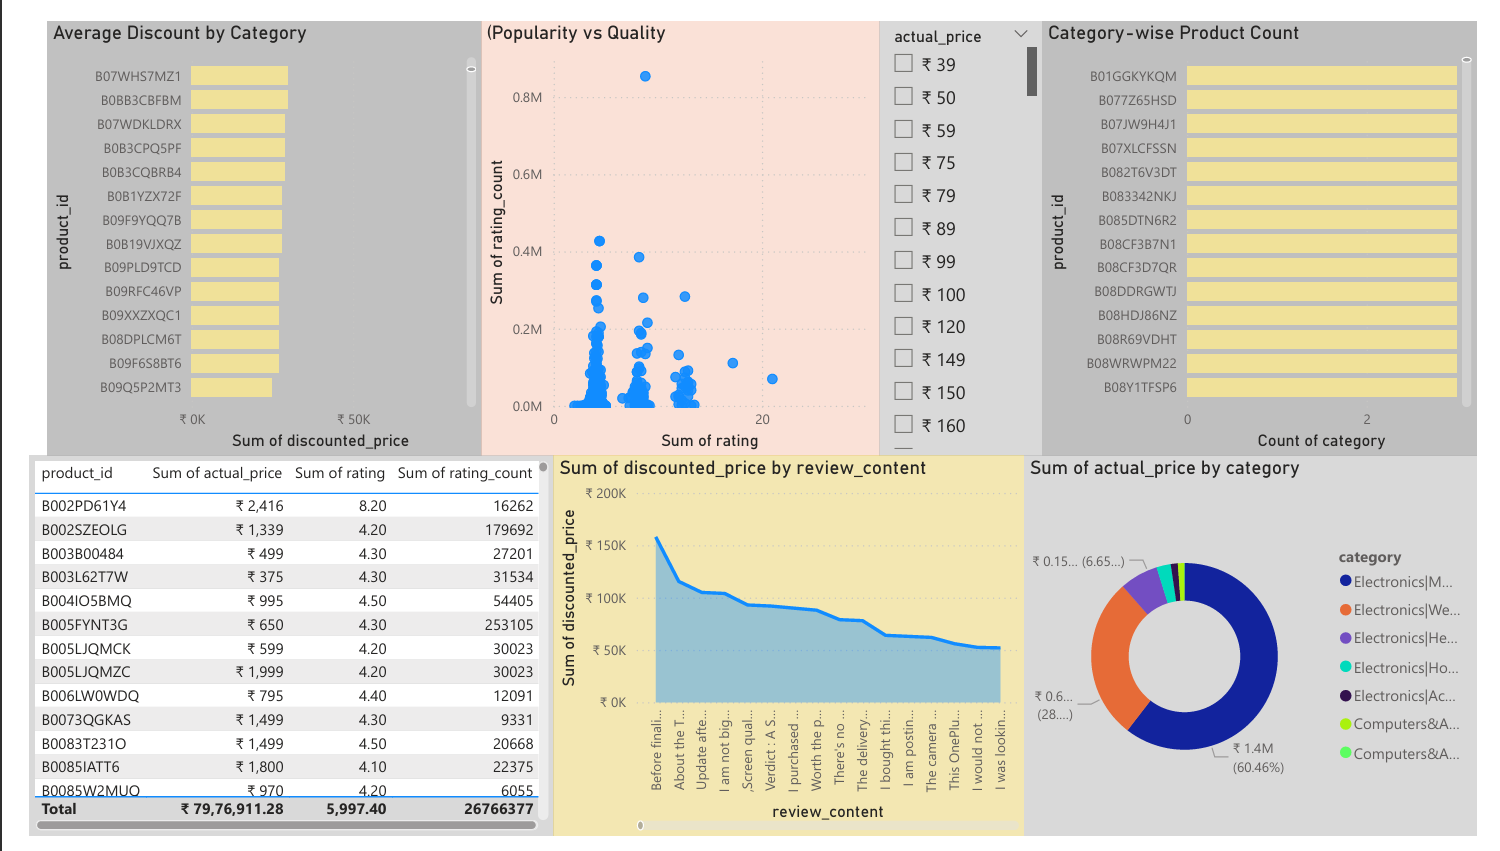

This screenshot's page, from the dashboard's own definition file:
{"tool":"powerbi","page":{"name":"Page 1","canvas":[1280,720],"ordinal":0},"visuals":[{"type":"clusteredBarChart","title":"Average Discount by Category","fields":{"Category":["amazon.product_id"],"Y":["Sum(amazon.discounted_price)"]},"box":[16,0,384,384],"z":0},{"type":"barChart","title":"Category-wise Product Count","fields":{"Y":["CountNonNull(amazon.category)"],"Category":["amazon.product_id"]},"box":[896,0,384,384],"z":1000},{"type":"scatterChart","title":"(Popularity vs Quality","fields":{"X":["Sum(amazon.rating)"],"Y":["Sum(amazon.rating_count)"],"Category":["amazon.product_name"]},"box":[400,0,352,384],"z":2000},{"type":"tableEx","fields":{"Values":["amazon.product_id","Sum(amazon.actual_price)","Sum(amazon.rating)","Sum(amazon.rating_count)"]},"box":[0,384,464,336],"z":3000},{"type":"slicer","fields":{"Values":["amazon.actual_price"]},"box":[752,0,144,384],"z":4000},{"type":"areaChart","fields":{"Y":["Sum(amazon.discounted_price)"],"Category":["amazon.review_content"]},"box":[464,384,416,336],"z":5000},{"type":"donutChart","fields":{"Y":["Sum(amazon.actual_price)"],"Category":["amazon.category"]},"box":[880,384,400,336],"z":6000}]}

Visuals, with their boxes in screenshot pixels (x1, y1, x2, y2), scaled from the page's 1280x720 canvas onto the 1500x851 screenshot:
"Average Discount by Category" clusteredBarChart: (left=19, top=0, right=469, bottom=454)
"Category-wise Product Count" barChart: (left=1050, top=0, right=1499, bottom=454)
"(Popularity vs Quality" scatterChart: (left=469, top=0, right=881, bottom=454)
tableEx - amazon.product_id x Sum(amazon.actual_price): (left=0, top=454, right=544, bottom=850)
slicer - amazon.actual_price: (left=881, top=0, right=1050, bottom=454)
areaChart - Sum(amazon.discounted_price) x amazon.review_content: (left=544, top=454, right=1031, bottom=850)
donutChart - Sum(amazon.actual_price) x amazon.category: (left=1031, top=454, right=1499, bottom=850)
